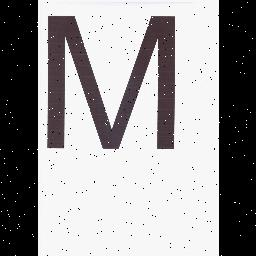m: (38, 8, 182, 158)
